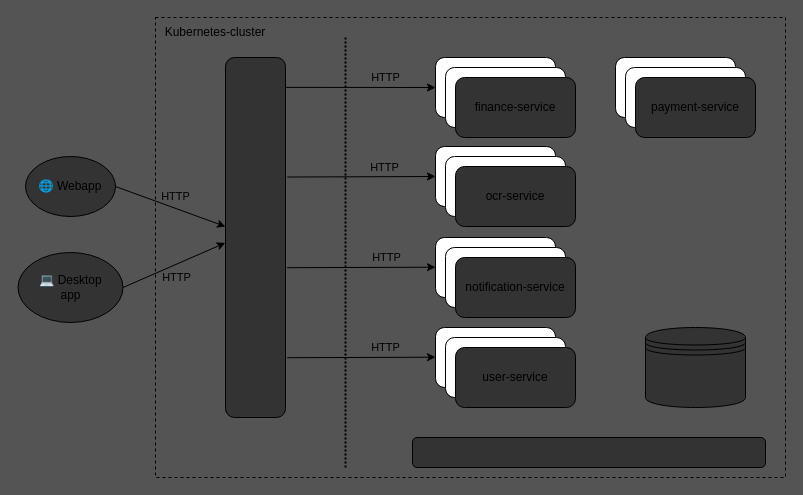
Image size: 803x495. Some labels were removed from this diagram. The shapes that lost their labels are listed below. From the top down, each one's centre as x and y in pixels, then its label:
At pixel 255 237: "API Gateway".
At pixel 695 367: "DB ?!".
At pixel 589 452: "Message queue".
